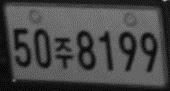0: (32, 27, 51, 68)
1: (97, 29, 117, 72)
5: (12, 27, 31, 68)
8: (75, 29, 97, 71)
9: (116, 30, 138, 73), (139, 31, 159, 74)
주: (52, 36, 74, 69)
